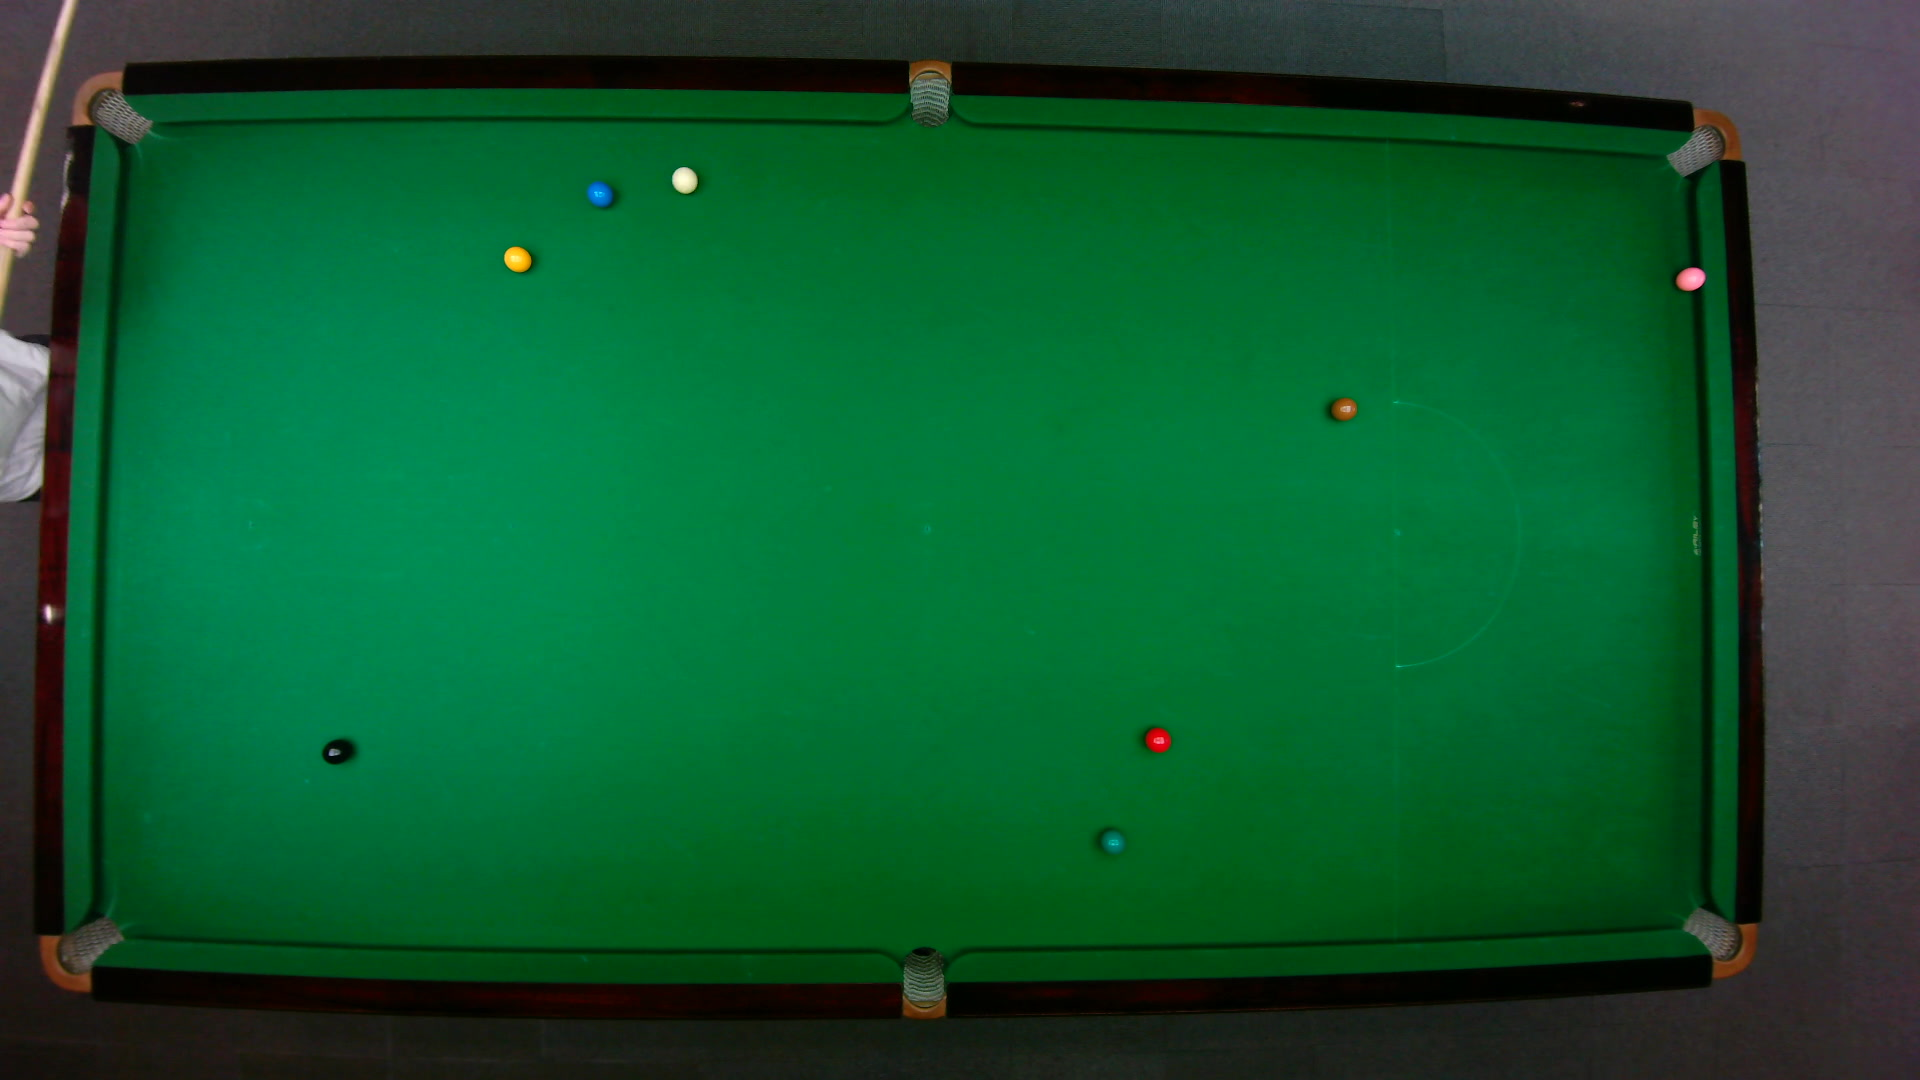bag: (37, 914, 127, 992), (69, 69, 152, 145), (1677, 905, 1756, 978), (1663, 107, 1741, 178), (901, 944, 944, 1021), (909, 58, 949, 127)
black: (319, 737, 352, 765)
blue: (585, 179, 613, 207)
brown: (1328, 396, 1358, 421)
green: (1098, 827, 1126, 855)
pink: (1673, 264, 1706, 291)
red: (1142, 725, 1172, 752)
white: (670, 165, 699, 194)
yellow: (501, 243, 531, 273)
zone: (1390, 400, 1520, 669)
